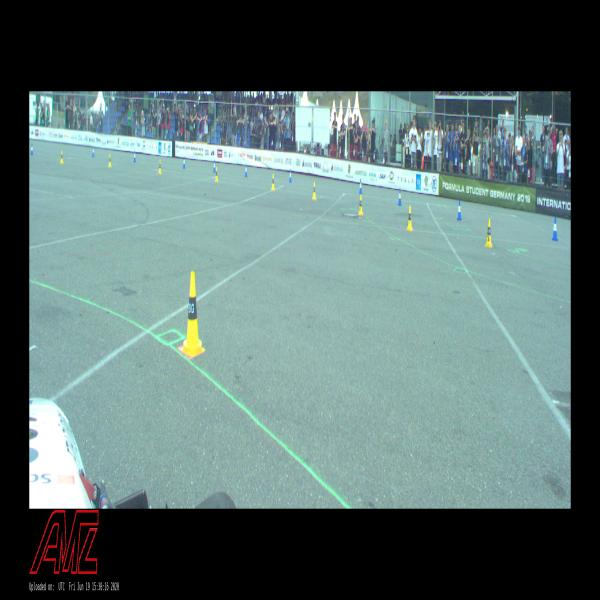blue_cone: (552, 216, 558, 241), (457, 200, 462, 220), (398, 188, 402, 205), (244, 163, 248, 176), (30, 144, 34, 155), (182, 157, 186, 168), (359, 179, 362, 193), (289, 169, 292, 183), (213, 160, 216, 173), (92, 147, 95, 157), (134, 151, 136, 162)
yellow_cone: (180, 272, 205, 358), (485, 219, 493, 246), (407, 206, 413, 230), (358, 194, 363, 216), (312, 182, 316, 200), (271, 174, 275, 191), (158, 160, 162, 174), (60, 150, 64, 163), (108, 154, 112, 167), (215, 167, 218, 181)
